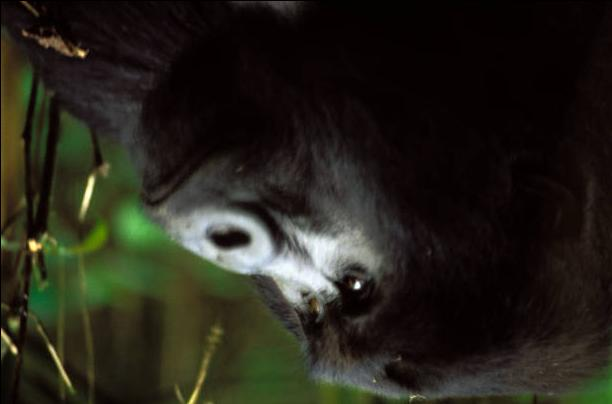goriile_montagne: (63, 0, 609, 404)
